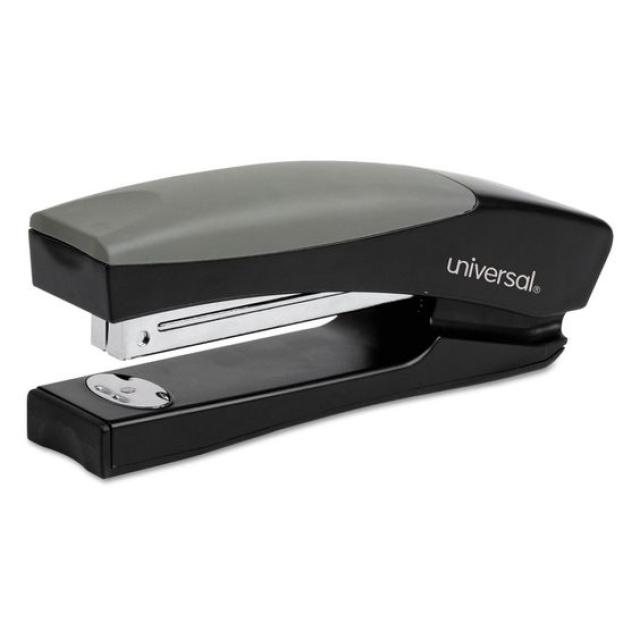Stapler: (0, 158, 639, 491)
